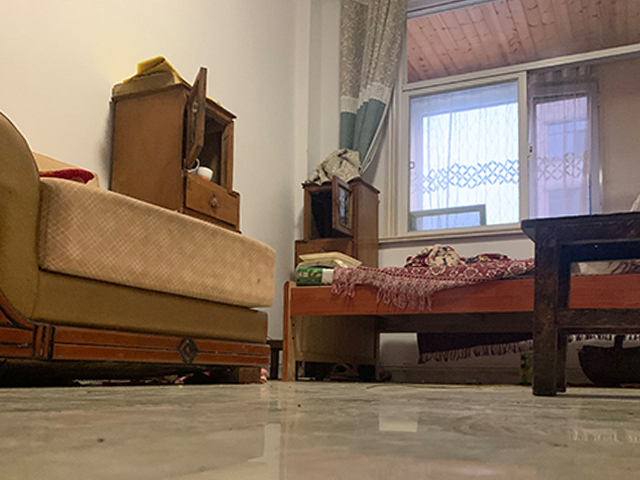bed: (281, 246, 640, 382)
curtain: (305, 1, 403, 188)
slippers: (329, 362, 362, 382)
sofa: (1, 111, 277, 384)
stool: (519, 209, 640, 396)
